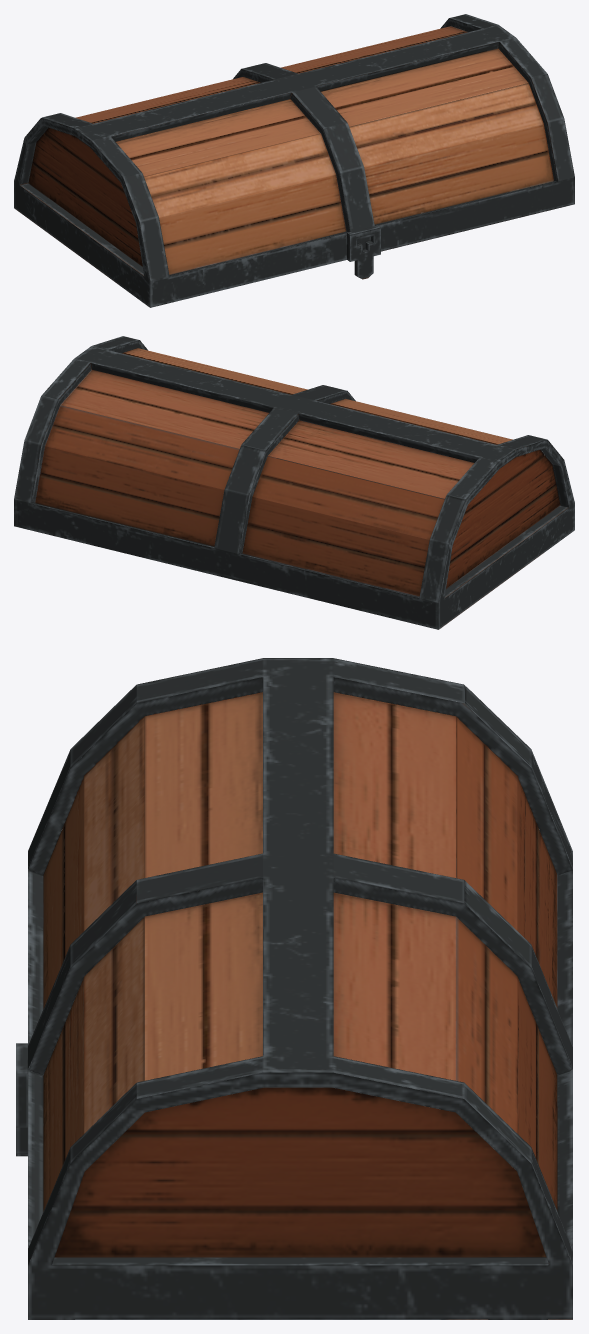
The model's file is Chest_Top.fbx.
3 renders of one model, top to bottom at view 1: azimuth 30°, elevation 25°; view 2: azimuth 150°, elevation 25°; view 3: azimuth 270°, elevation 25°, orthographic. The views are drawn at different scales.
Visible parts, largest first — view 1: chest.001; view 2: chest.001; view 3: chest.001.
Boxes of the visible parts, left/top/right/bottom form: chest.001: left=14, top=14, right=574, bottom=307; chest.001: left=14, top=336, right=574, bottom=629; chest.001: left=16, top=658, right=572, bottom=1319.
Bounding box in the file's own units: 108 × 35.03 × 61.31.
1 material, 1 textured.
